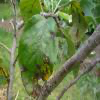Apple Scab Leaf: (18, 12, 57, 99)
